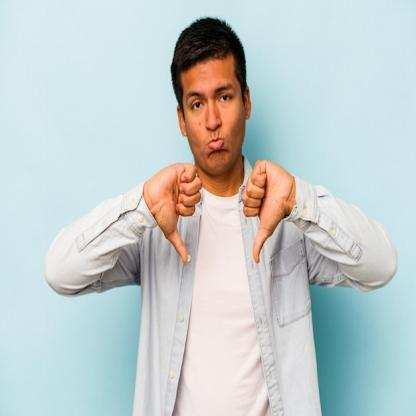thumb_down: (240, 155, 292, 266), (152, 157, 203, 266)
